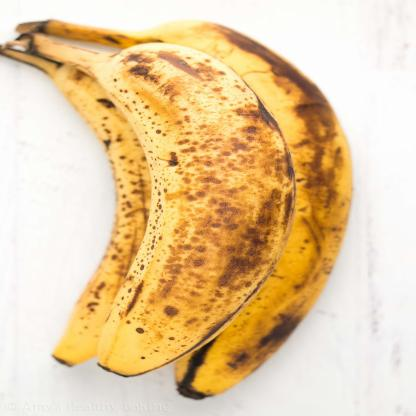banana: (126, 27, 339, 397), (98, 48, 294, 391), (42, 61, 202, 367)
